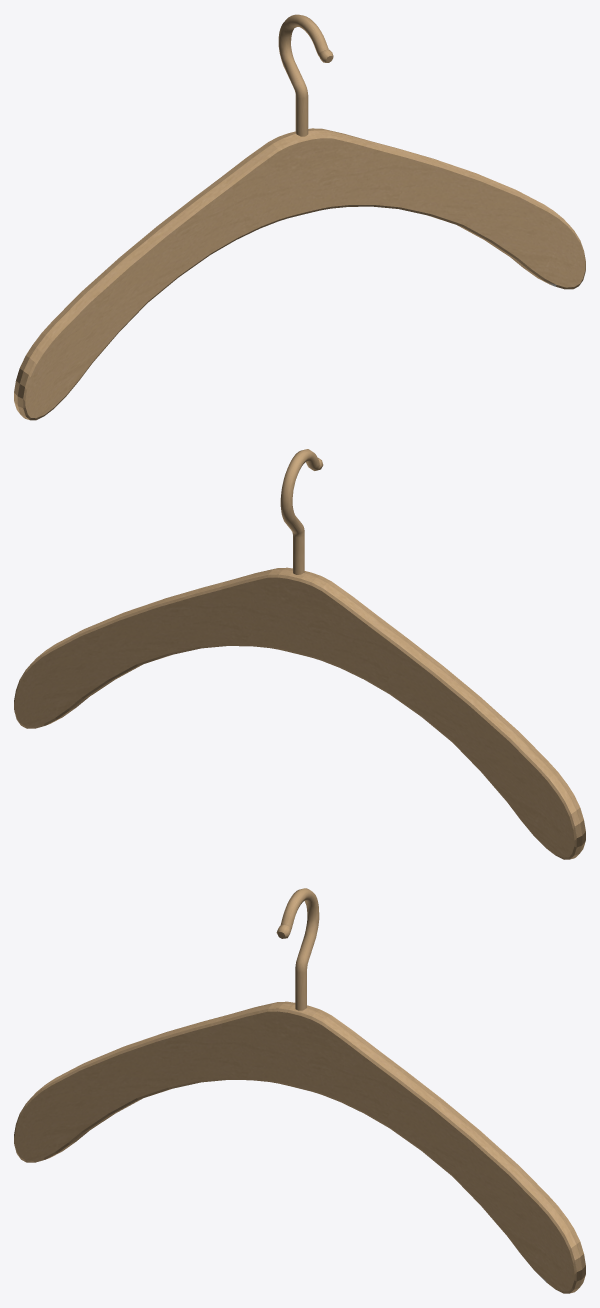
The model's file is Hanger Pack.fbx.
The picture shows the model from 3 angles, top to bottom: view 1: azimuth 30°, elevation 25°; view 2: azimuth 150°, elevation 25°; view 3: azimuth 330°, elevation 25°; orthographic projection.
Visible parts, largest first — view 1: Object001; view 2: Object001; view 3: Object001.
Part boxes in pixels (bbox=[...]): Object001: bbox=[14, 14, 585, 420]; Object001: bbox=[14, 449, 585, 859]; Object001: bbox=[14, 888, 585, 1293].
Size of the model in its own units: 16.79 by 9.6 by 2.16.
